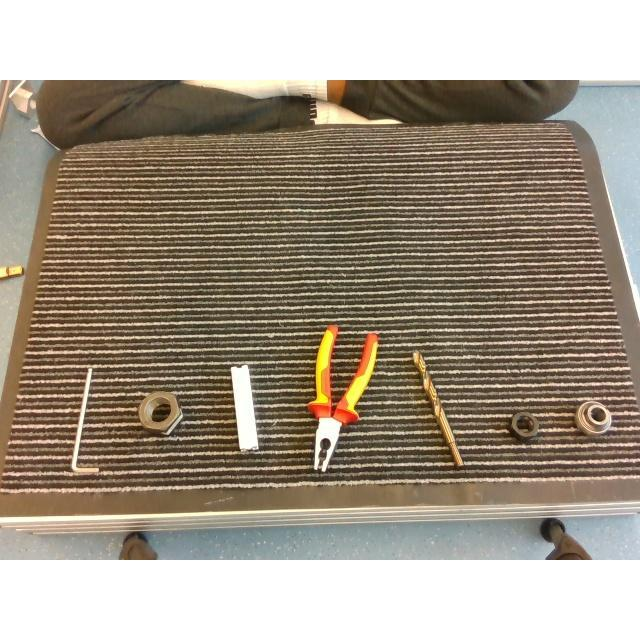Bearing2: (576, 400, 612, 436)
Drill: (413, 350, 463, 466)
F20_20_G: (230, 366, 258, 450)
M20: (509, 411, 538, 441)
M30: (138, 391, 182, 434)
